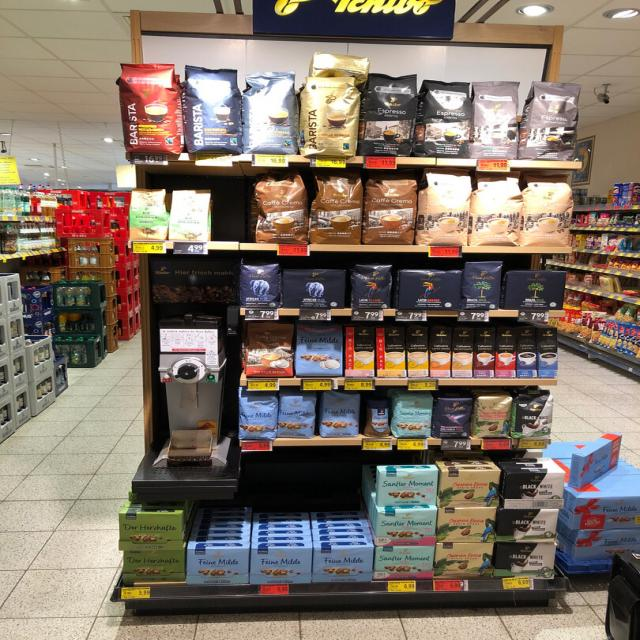AB Bohne: (237, 261, 282, 309)
AB Gemahlen: (282, 268, 348, 308)
Athiopien Bohne: (129, 186, 168, 242)
Athiopien Gemahlen: (169, 188, 211, 242)
BM Bohne: (463, 260, 503, 310)
BM Gemahlen: (506, 269, 568, 310)
BW Bohne: (514, 393, 556, 438)
BW Gemahlen: (505, 472, 566, 510), (500, 510, 559, 544), (497, 544, 558, 576)
Barista CB: (302, 76, 358, 158)
Barista CC: (244, 73, 299, 155)
Barista Espresso: (182, 63, 245, 153)
Barista Kolumbien: (116, 60, 184, 156)
C Fino Bohne: (434, 396, 473, 439)
CC Mild: (472, 170, 523, 247), (420, 169, 471, 245), (523, 174, 574, 247)
CC Vollmundig: (246, 322, 294, 378)
CC Vollmundig 36 Pads: (251, 172, 307, 244), (364, 173, 417, 246), (312, 172, 362, 244)
Colombia BB Bohne: (476, 394, 512, 440)
Colombia BB Gemahlen: (442, 472, 501, 508), (436, 542, 494, 577), (439, 507, 496, 542)
Empty Shelf: (216, 183, 254, 243)
Espresso Aromatisch: (526, 78, 580, 160), (472, 78, 520, 160)
Espresso Kraftig: (364, 71, 415, 159), (419, 75, 473, 158)
FM 36 Pads: (295, 321, 345, 377)
FM Bohne: (238, 395, 278, 440), (321, 392, 361, 437), (279, 394, 317, 440)
FM Gemahlen: (252, 547, 312, 585), (188, 549, 248, 585), (314, 548, 372, 582)
FM Instant: (364, 395, 391, 438)
Herzhatfe Mundig: (117, 512, 183, 551), (122, 551, 186, 583)
LG Bohne: (350, 264, 393, 310)
LG Gemahlen: (398, 270, 462, 310)
SM Bohne: (392, 392, 433, 440)
SM Gemahlen: (379, 472, 438, 506), (378, 512, 438, 545), (376, 547, 434, 578)
Simo CCMild: (376, 327, 405, 378), (346, 326, 374, 376)
Simo CCMild bigpack: (407, 328, 428, 377)
Simo CCVollmundig bigpack: (430, 328, 450, 378)
Simo Decaff: (453, 328, 473, 379)
Simo Es Brazil: (496, 328, 516, 378)
Simo Es Caramel: (474, 327, 494, 378)
Simo Es Kraft: (517, 328, 537, 378)
Simo Es Vanilla: (538, 328, 558, 378)
